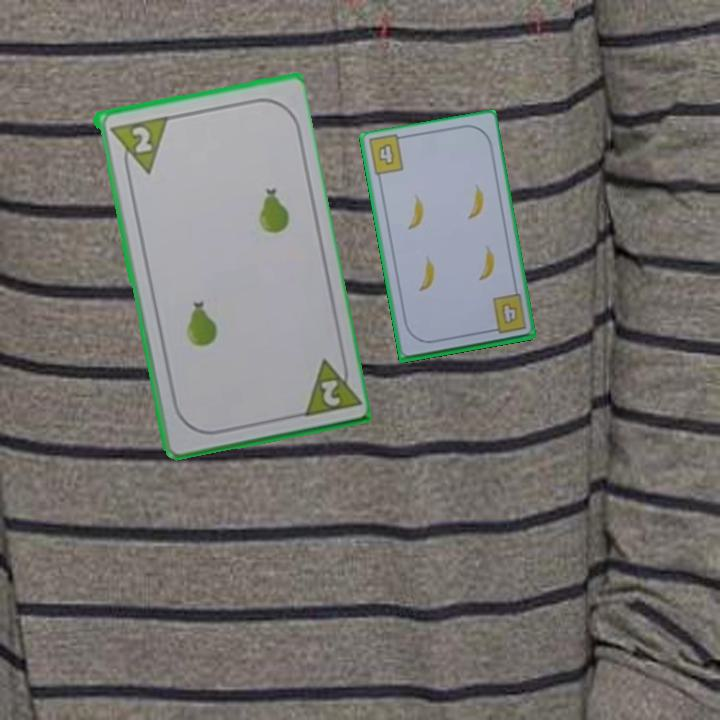2p: (127, 122, 154, 156), (316, 375, 343, 409)
4b: (485, 291, 529, 337), (374, 139, 397, 168)
